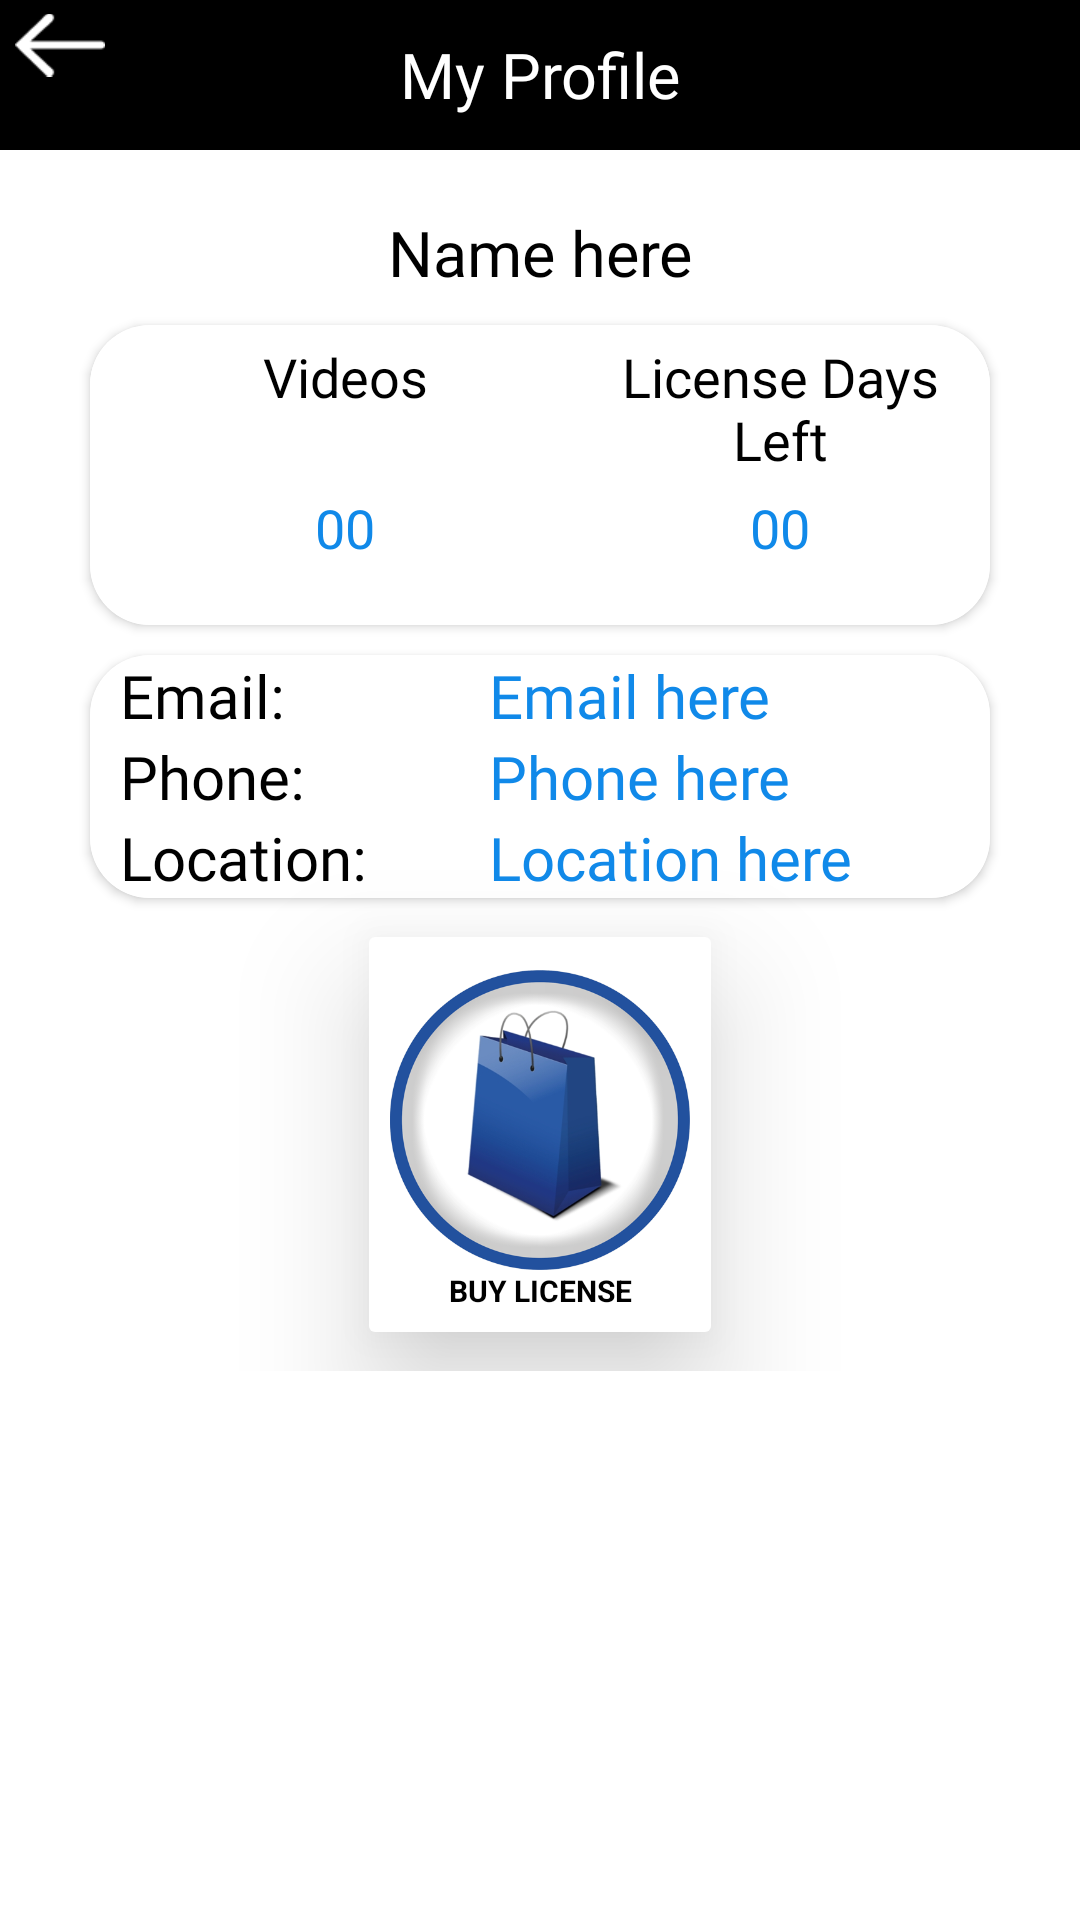

Point at icon controls on the screen. Image size 1080w x 1920h, points as [x,y].
back arrow: [60,45]
shoppingbag: [540,1120]
